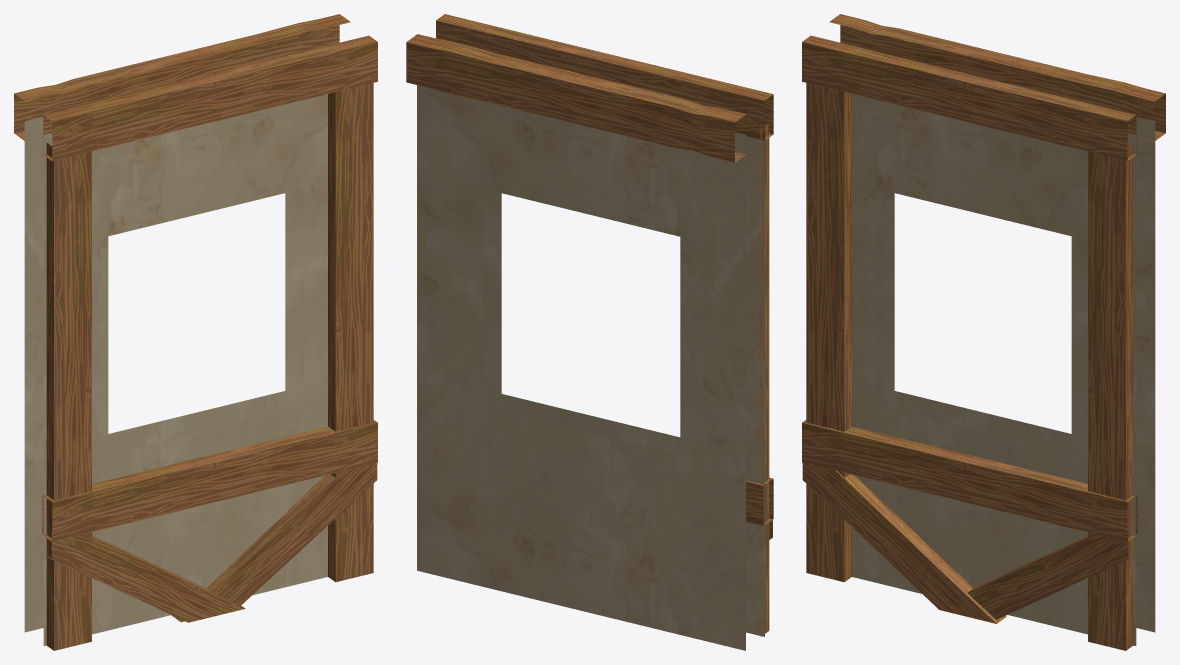
The model's file is wall_plaster_window_wide_flat2.glb.
3 views of the same model, side by side, from view 1: azimuth 30°, elevation 25°; view 2: azimuth 150°, elevation 25°; view 3: azimuth 330°, elevation 25° (orthographic).
Visible parts, largest first — view 1: Wall_Plaster_Window_Wide_Flat2; view 2: Wall_Plaster_Window_Wide_Flat2; view 3: Wall_Plaster_Window_Wide_Flat2.
Boxes of the visible parts, box(x1,y1,x2,y2) form: Wall_Plaster_Window_Wide_Flat2: box(14, 14, 377, 650); Wall_Plaster_Window_Wide_Flat2: box(406, 14, 773, 650); Wall_Plaster_Window_Wide_Flat2: box(802, 14, 1165, 650).
Size of the model in its own units: 2 by 3.15 by 0.4065.
Materials: 2 (2 with a texture image).
